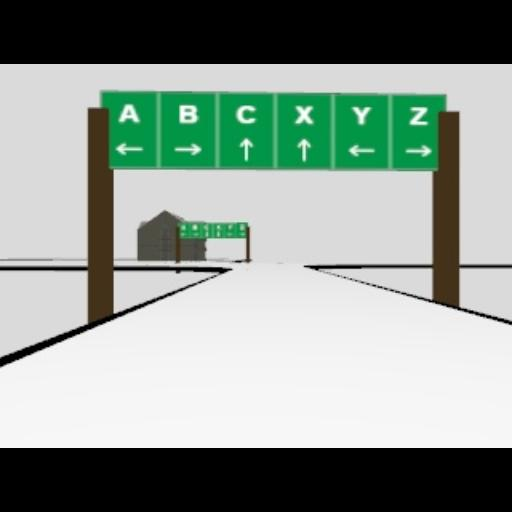A: (118, 102, 142, 124)
B: (178, 102, 198, 126)
C: (235, 102, 257, 124)
Left: (114, 142, 142, 156), (346, 144, 376, 156)
Right: (173, 142, 203, 156), (404, 144, 432, 156)
Straight: (239, 136, 253, 160), (296, 138, 310, 160)
X: (295, 104, 315, 126)
Y: (350, 104, 372, 124)
Z: (408, 106, 430, 128)
